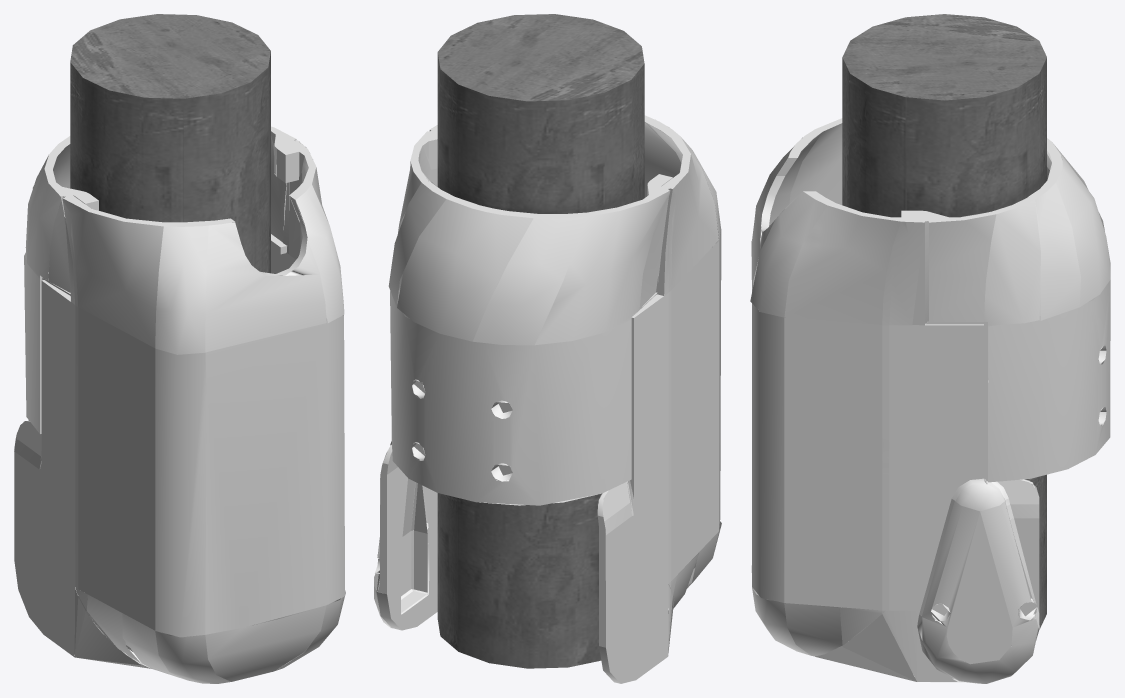
The model's file is icub_r_arm.dae.
3 views of the same model, side by side, from view 1: azimuth 30°, elevation 25°; view 2: azimuth 150°, elevation 25°; view 3: azimuth 270°, elevation 25° (orthographic). The views are drawn at different scales.
Visible parts, largest first — view 1: l_arm_cyl_mesh; view 2: l_arm_cyl_mesh; view 3: l_arm_cyl_mesh.
Part boxes in pixels (x1,y1,x2,y2): l_arm_cyl_mesh: [14, 14, 345, 683]; l_arm_cyl_mesh: [374, 14, 721, 683]; l_arm_cyl_mesh: [750, 14, 1110, 683].
Bounding box in the file's own units: 0.0716 × 0.0916 × 0.1601.
Materials: 1 (1 with a texture image).
